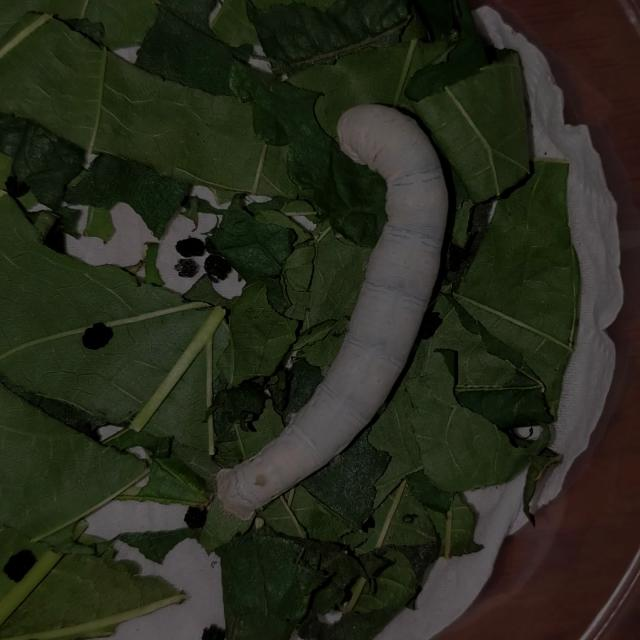Healthy: (188, 57, 500, 550)
